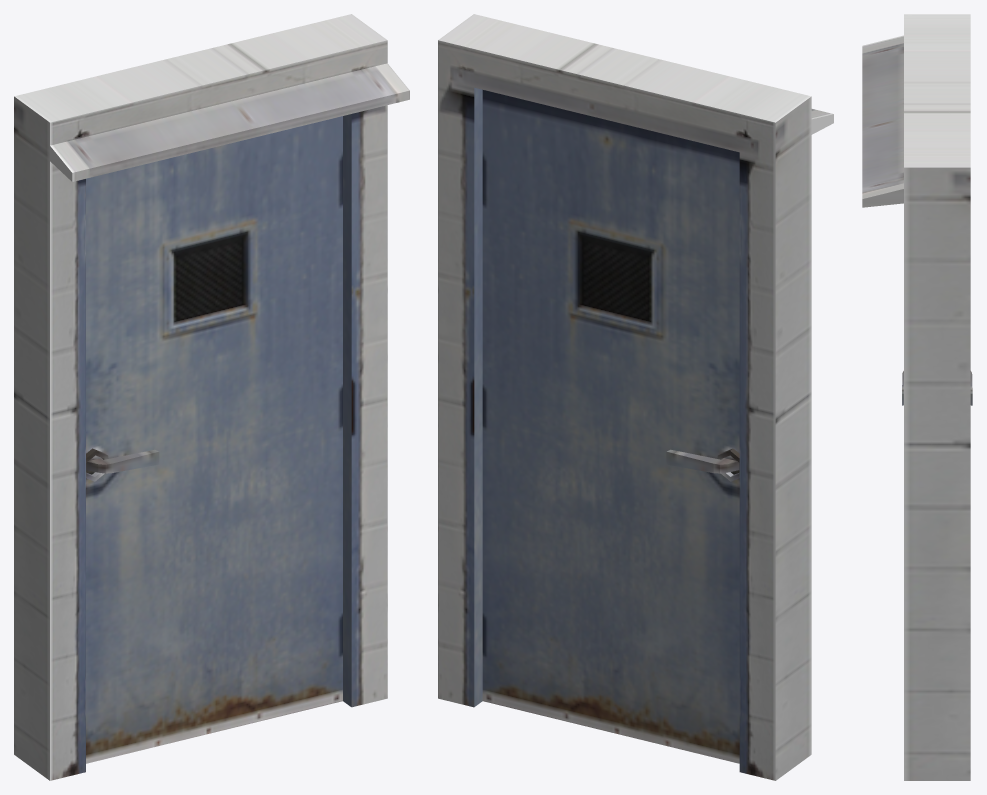
File: Porte2.glb
The picture shows the model from 3 angles, left to right: view 1: azimuth 30°, elevation 25°; view 2: azimuth 150°, elevation 25°; view 3: azimuth 270°, elevation 25°; orthographic projection. The views are drawn at different scales.
Parts seen in each view (by area): view 1: Porte2; view 2: Porte2; view 3: Porte2.
Part boxes in pixels (x1,y1,x2,y2): Porte2: [14, 14, 409, 780]; Porte2: [438, 14, 833, 780]; Porte2: [862, 14, 972, 780].
Size of the model in its own units: 1.07 by 2 by 0.3255.
1 material, 1 textured.
